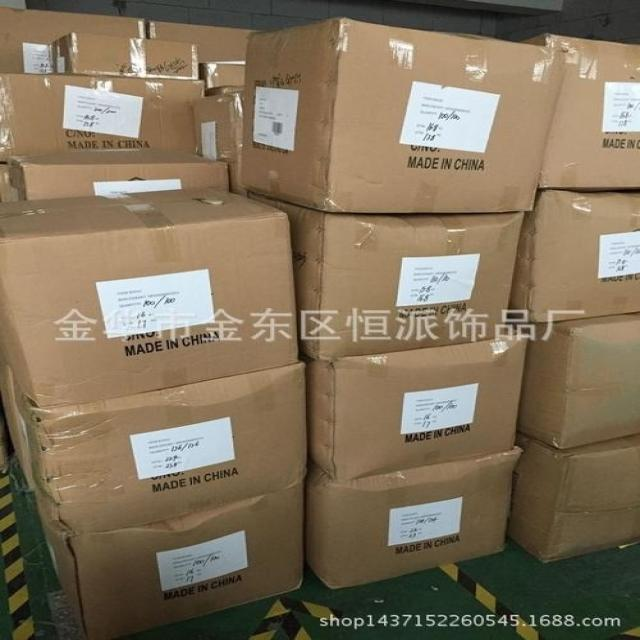box: (1, 187, 301, 408), (242, 18, 569, 212), (1, 359, 308, 531), (246, 191, 527, 360), (39, 480, 303, 639), (304, 326, 529, 480), (305, 447, 522, 590), (512, 33, 639, 189), (506, 311, 639, 449), (0, 73, 203, 161), (509, 189, 639, 324), (510, 431, 639, 562), (10, 153, 228, 200), (48, 30, 198, 79)
